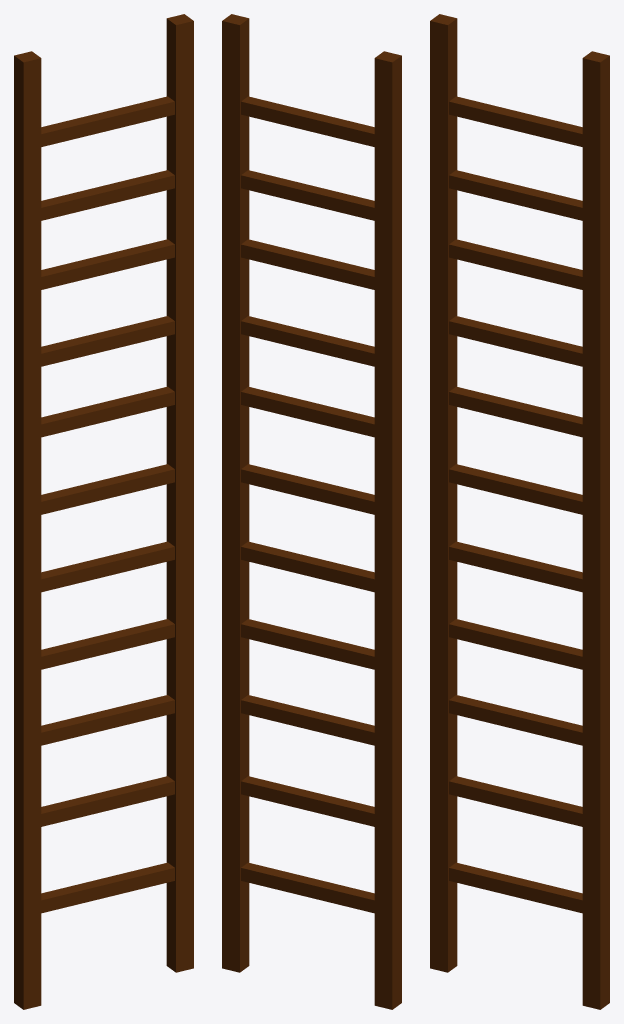
Rendered from Ladder_Fix.fbx.
3 views of the same model, side by side, from view 1: azimuth 30°, elevation 25°; view 2: azimuth 150°, elevation 25°; view 3: azimuth 330°, elevation 25° (orthographic).
Visible parts, largest first — view 1: Cube.002, Cube, Cube.001; view 2: Cube.002, Cube, Cube.001; view 3: Cube.002, Cube.001, Cube.
Boxes of the visible parts, x1,y1,x2,y2 form: Cube.002: [41, 96, 174, 913]; Cube: [14, 51, 41, 1009]; Cube.001: [166, 14, 193, 972]; Cube.002: [241, 96, 374, 913]; Cube: [374, 51, 401, 1009]; Cube.001: [222, 14, 249, 972]; Cube.002: [449, 96, 582, 913]; Cube.001: [582, 51, 609, 1009]; Cube: [430, 14, 457, 972].
Bounding box in the file's own units: 74.35 × 395 × 7.13.
